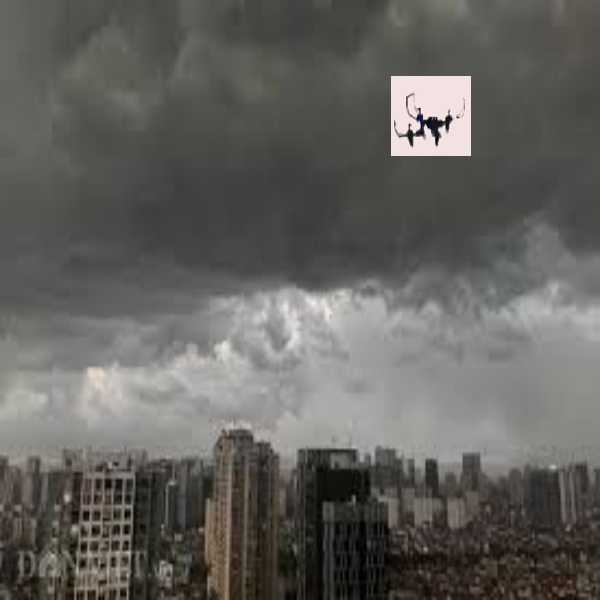drone: (389, 85, 466, 154)
